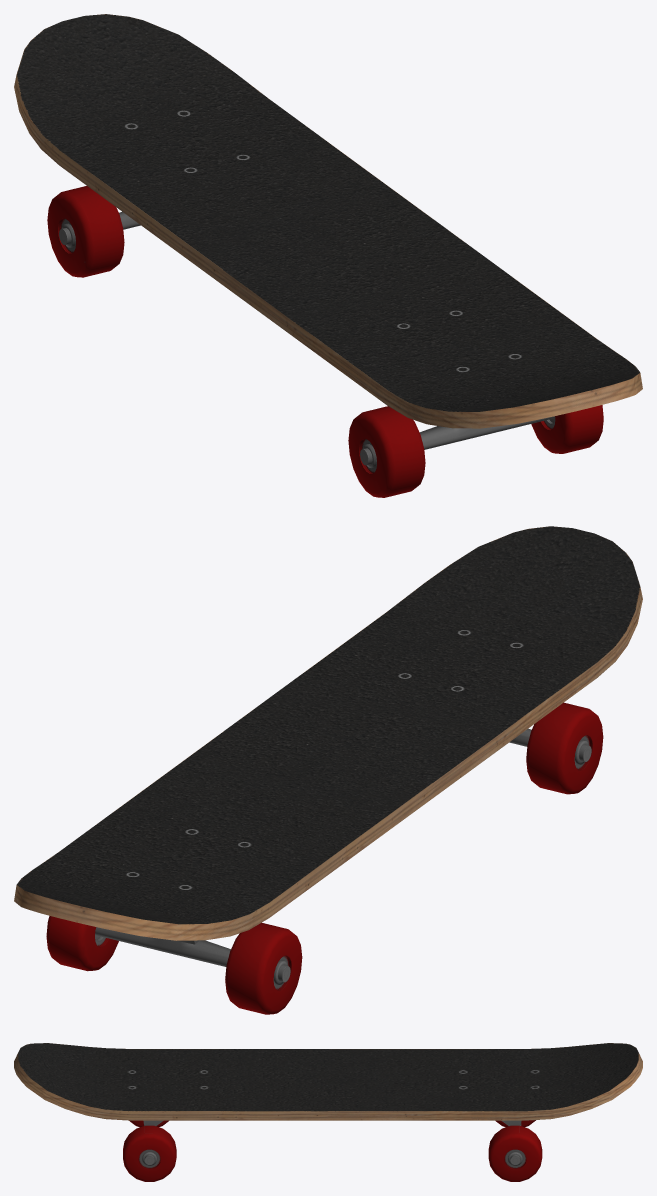
File: c_skateboard_01.fbx
The picture shows the model from 3 angles, top to bottom: view 1: azimuth 30°, elevation 25°; view 2: azimuth 150°, elevation 25°; view 3: azimuth 270°, elevation 25°; orthographic projection. The views are drawn at different scales.
Visible parts, largest first — view 1: c_skateboard_01; view 2: c_skateboard_01; view 3: c_skateboard_01.
Boxes of the visible parts, x1,y1,x2,y2 form: c_skateboard_01: [14, 14, 642, 497]; c_skateboard_01: [14, 526, 642, 1014]; c_skateboard_01: [14, 1043, 642, 1181].
Size of the model in its own units: 31.64 by 21.09 by 126.
